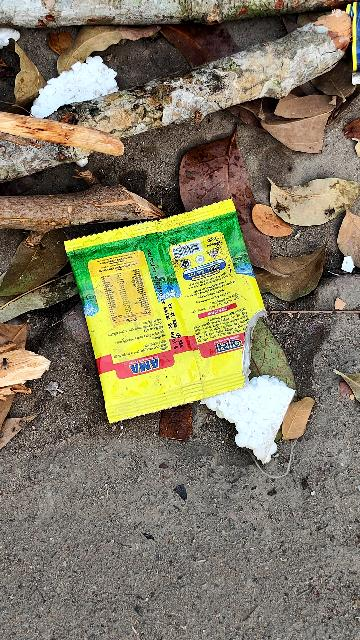packet: (53, 175, 314, 418)
